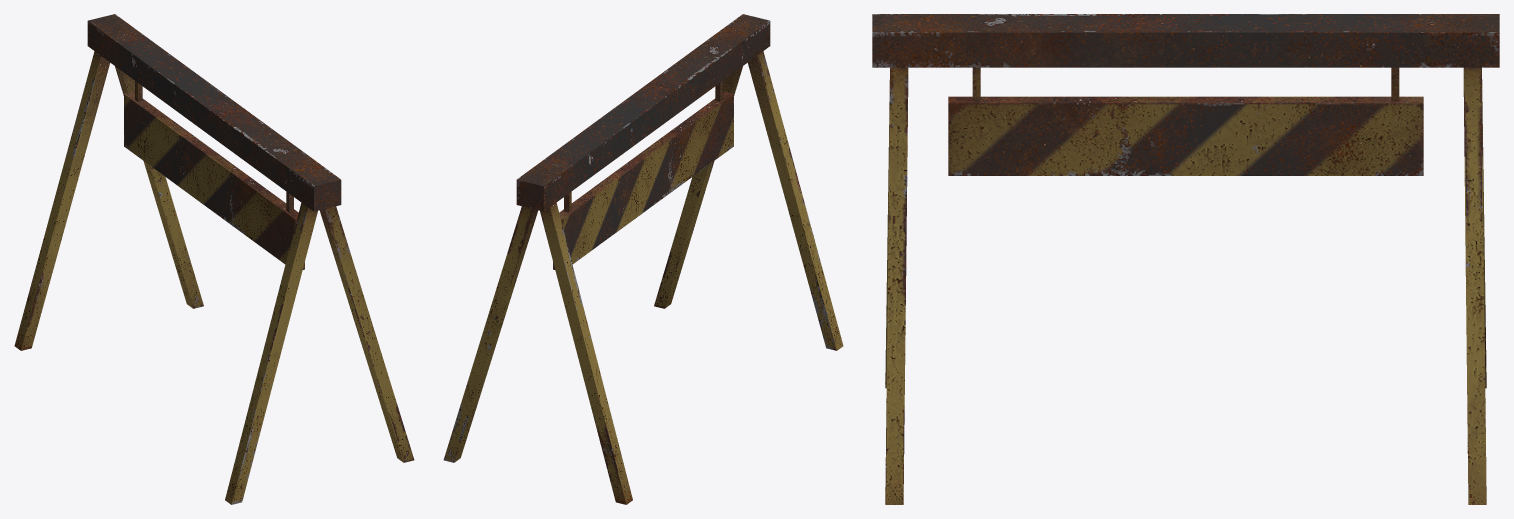
File: Stopper1.fbx
3 renders of one model, left to right at view 1: azimuth 30°, elevation 25°; view 2: azimuth 150°, elevation 25°; view 3: azimuth 270°, elevation 25°, orthographic. The views are drawn at different scales.
Parts seen in each view (by area): view 1: Stopper1; view 2: Stopper1; view 3: Stopper1.
Part boxes in pixels (left/top/right/bottom): Stopper1: left=14, top=14, right=414, bottom=504; Stopper1: left=443, top=14, right=843, bottom=504; Stopper1: left=872, top=14, right=1499, bottom=504.
Size of the model in its own units: 0.8124 by 1.29 by 1.74.
